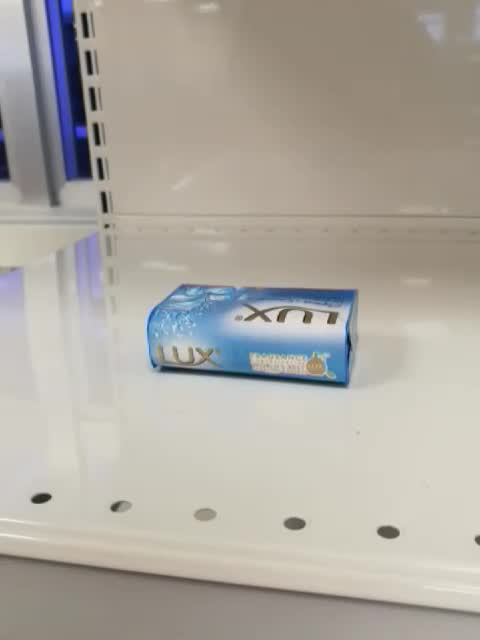soap: (145, 283, 362, 391)
